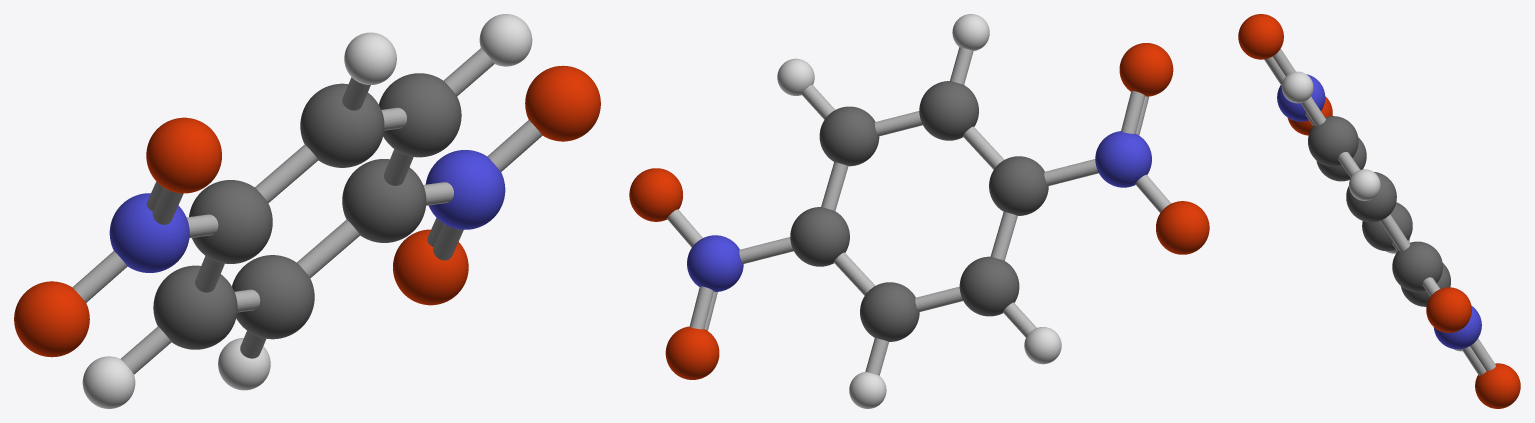
The model's file is O__N____O-__c1ccc_cc1__N____O__O-_.glb.
The picture shows the model from 3 angles, left to right: view 1: azimuth 30°, elevation 25°; view 2: azimuth 150°, elevation 25°; view 3: azimuth 270°, elevation 25°; orthographic projection. The views are drawn at different scales.
Visible parts, largest first — view 1: world; view 2: world; view 3: world.
Boxes of the visible parts, x1,y1,x2,y2 form: world: (14,14,600,408); world: (629,14,1209,408); world: (1238,14,1520,408).
Size of the model in its own units: 7.59 by 4.77 by 4.46.
